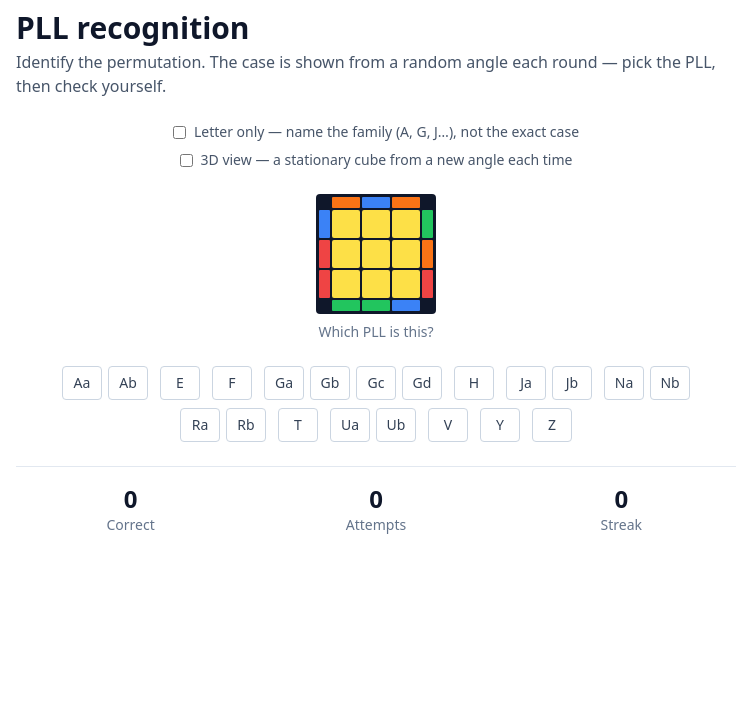
Test: TrainerPLL › marks a correct answer and counts it
This screenshot has width=753, height=715.
Step 1. Click the button "Aa" → (82, 383), box top-left (62, 366), bottom-right (102, 400)
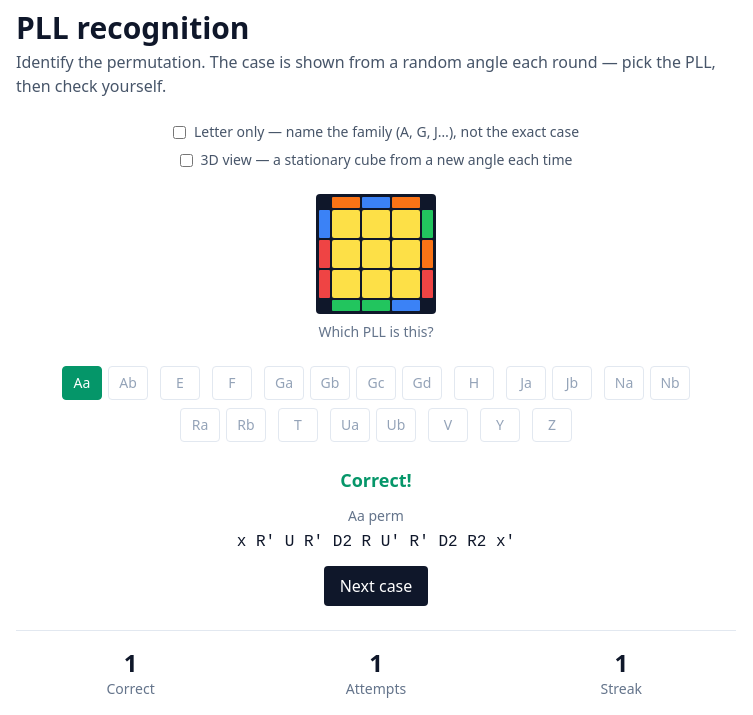
Check: the text with test id "result" shows "Correct", box top-left (340, 468), bottom-right (412, 492)
Check: the text with test id "stat-correct" reads "1", box top-left (124, 646), bottom-right (138, 679)
Check: the text with test id "stat-total" reads "1", box top-left (369, 646), bottom-right (383, 679)
